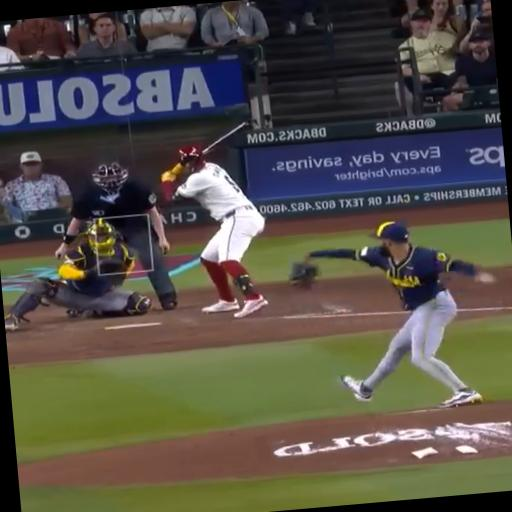bat: (203, 121, 251, 154), (203, 121, 249, 154)
